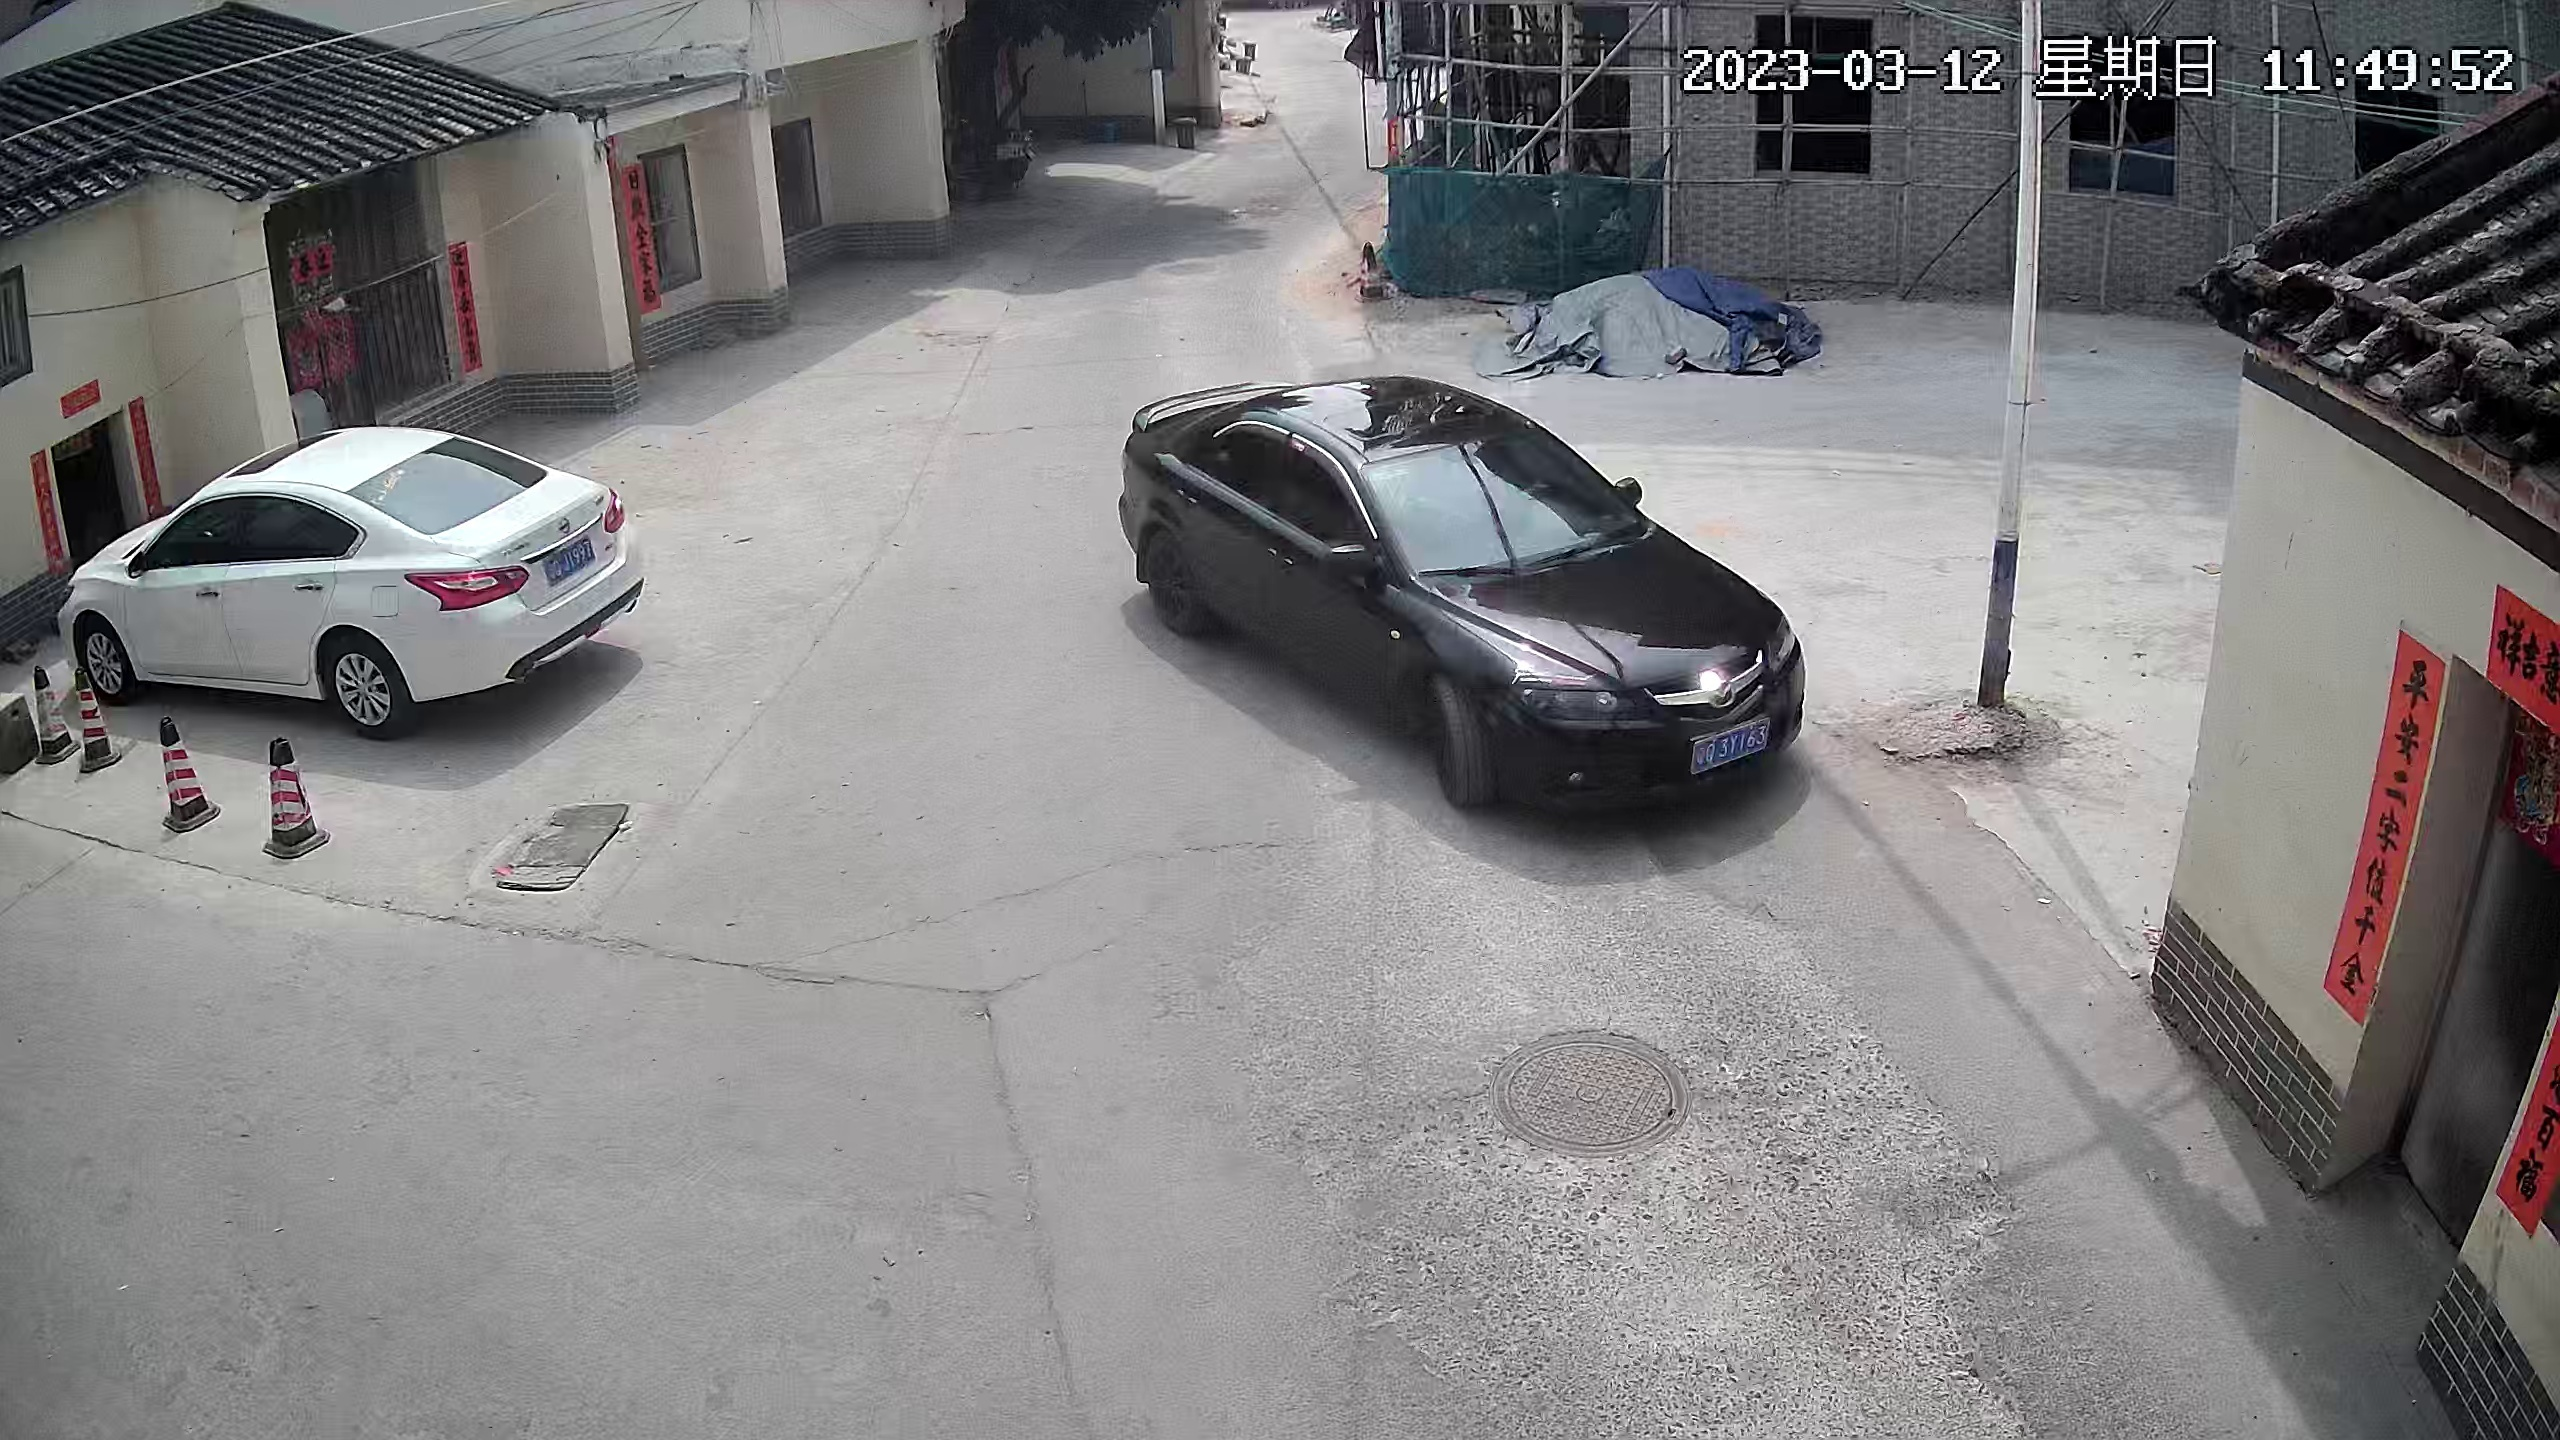sedan: (1129, 373, 1807, 823), (74, 418, 638, 724)
